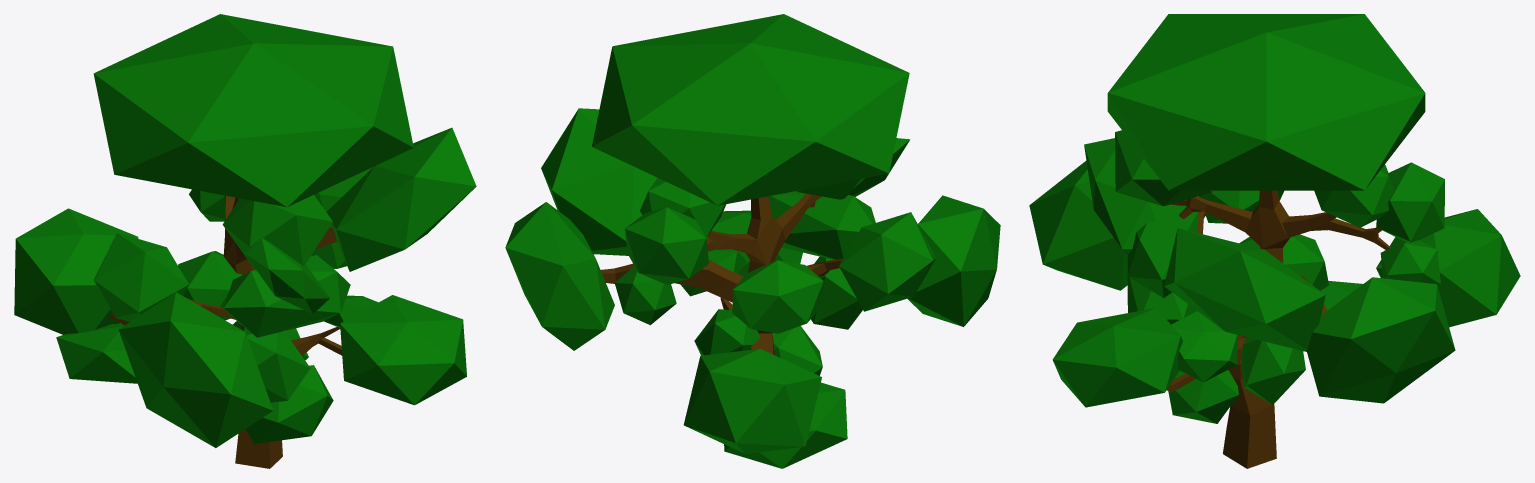
Rendered from tree.fbx.
3 renders of one model, left to right at view 1: azimuth 30°, elevation 25°; view 2: azimuth 150°, elevation 25°; view 3: azimuth 270°, elevation 25°, orthographic. The views are drawn at different scales.
Parts seen in each view (by area): view 1: tree_fused; view 2: tree_fused; view 3: tree_fused.
Boxes of the visible parts, bbox=[...] form: tree_fused: bbox=[14, 14, 476, 468]; tree_fused: bbox=[505, 14, 1000, 468]; tree_fused: bbox=[1029, 14, 1520, 468].
Size of the model in its own units: 599 by 611 by 638.
